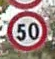limite 50: (6, 10, 47, 51)
